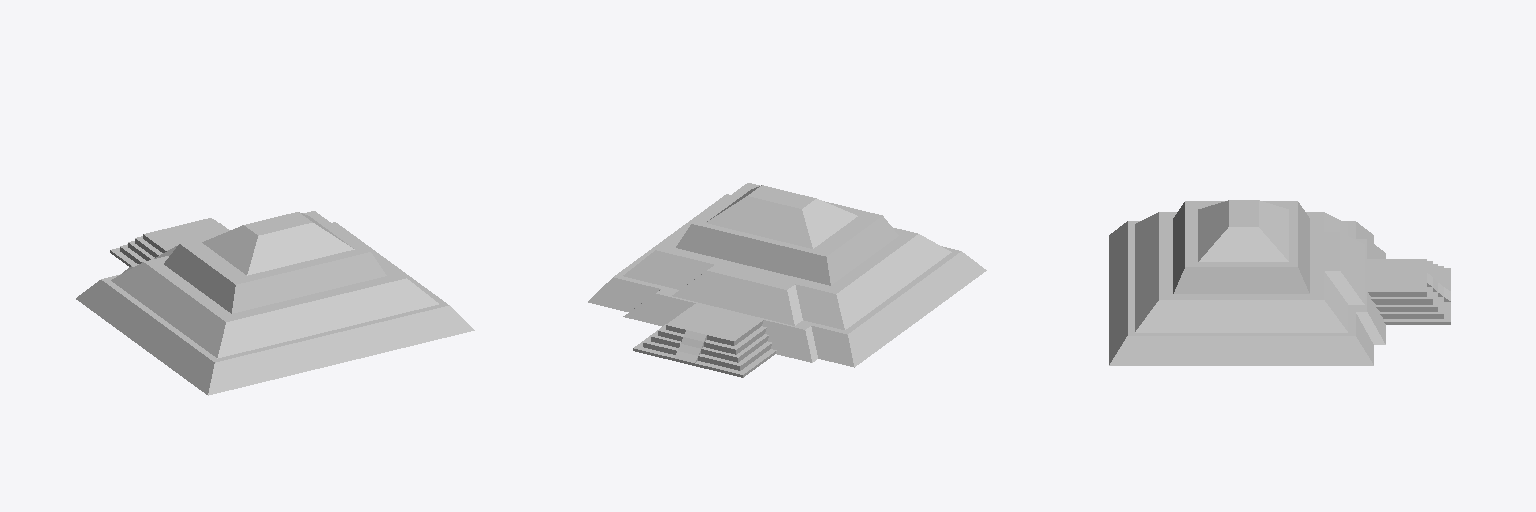
File: pLuna.obj
3 renders of one model, left to right at view 1: azimuth 30°, elevation 25°; view 2: azimuth 150°, elevation 25°; view 3: azimuth 270°, elevation 25°, orthographic.
Visible parts, largest first — view 1: PirámideLuna_Material.001; view 2: PirámideLuna_Material.001; view 3: PirámideLuna_Material.001.
Boxes of the visible parts, x1=… form: PirámideLuna_Material.001: x1=76, y1=211, x2=474, y2=395; PirámideLuna_Material.001: x1=588, y1=183, x2=986, y2=377; PirámideLuna_Material.001: x1=1109, y1=200, x2=1450, y2=365.
Bounding box in the file's own units: 44.02 × 14.02 × 48.81.